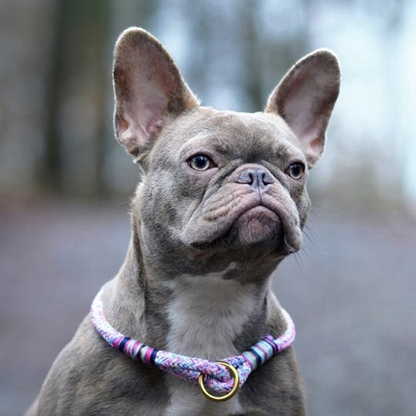bulldog: (51, 24, 348, 398)
